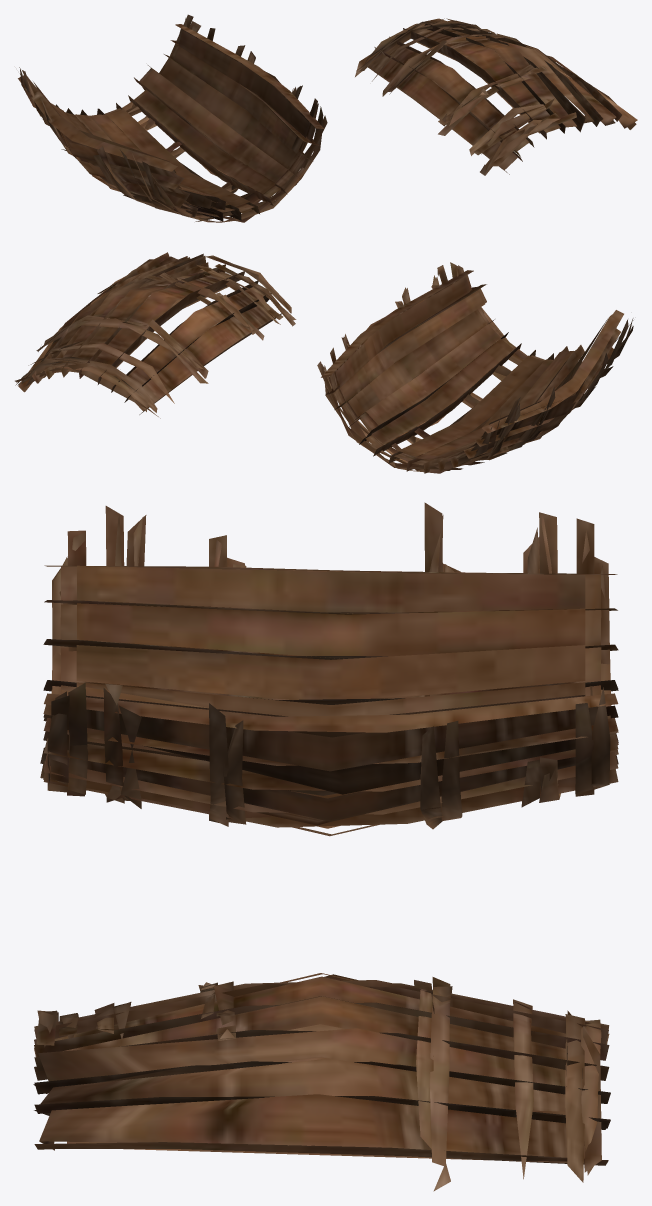
The model's file is barrel_staves.glb.
The picture shows the model from 3 angles, top to bottom: view 1: azimuth 30°, elevation 25°; view 2: azimuth 150°, elevation 25°; view 3: azimuth 270°, elevation 25°; orthographic projection. The views are drawn at different scales.
Visible parts, largest first — view 1: wooden_barrels_01_piece01; view 2: wooden_barrels_01_piece01; view 3: wooden_barrels_01_piece01.
Part boxes in pixels (x1,y1,x2,y2): wooden_barrels_01_piece01: (18, 14, 637, 222); wooden_barrels_01_piece01: (15, 252, 633, 473); wooden_barrels_01_piece01: (33, 502, 618, 1191).
Bounding box in the file's own units: 1.78 × 0.3622 × 0.8853.
Materials: 1 (1 with a texture image).
